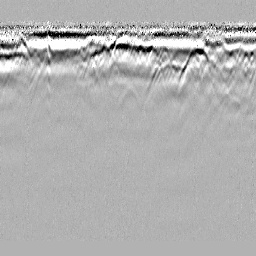cavity: (117, 80, 141, 110)
